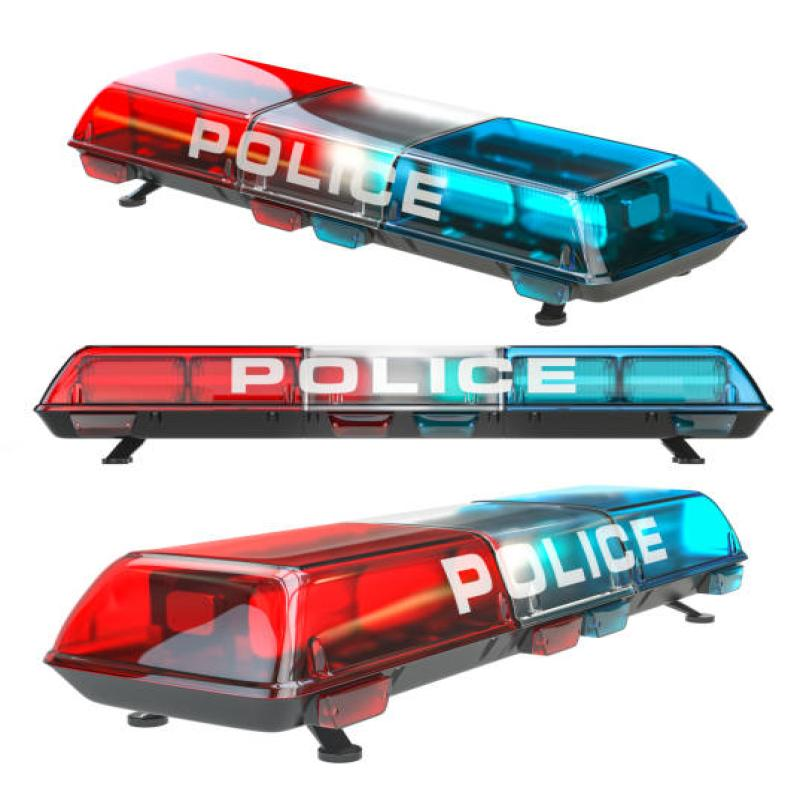AmbulanceSiren: (84, 27, 682, 303), (15, 506, 778, 722), (37, 318, 769, 473)
